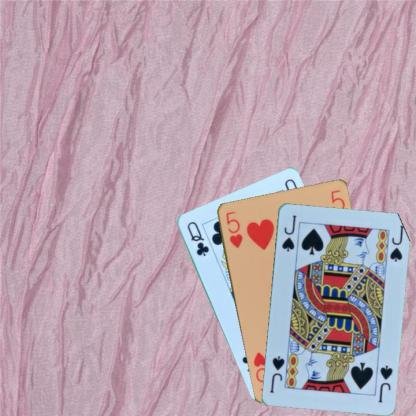5h: (223, 208, 244, 249)
Js: (279, 212, 298, 253), (375, 362, 393, 404)
Qc: (184, 218, 210, 258)
